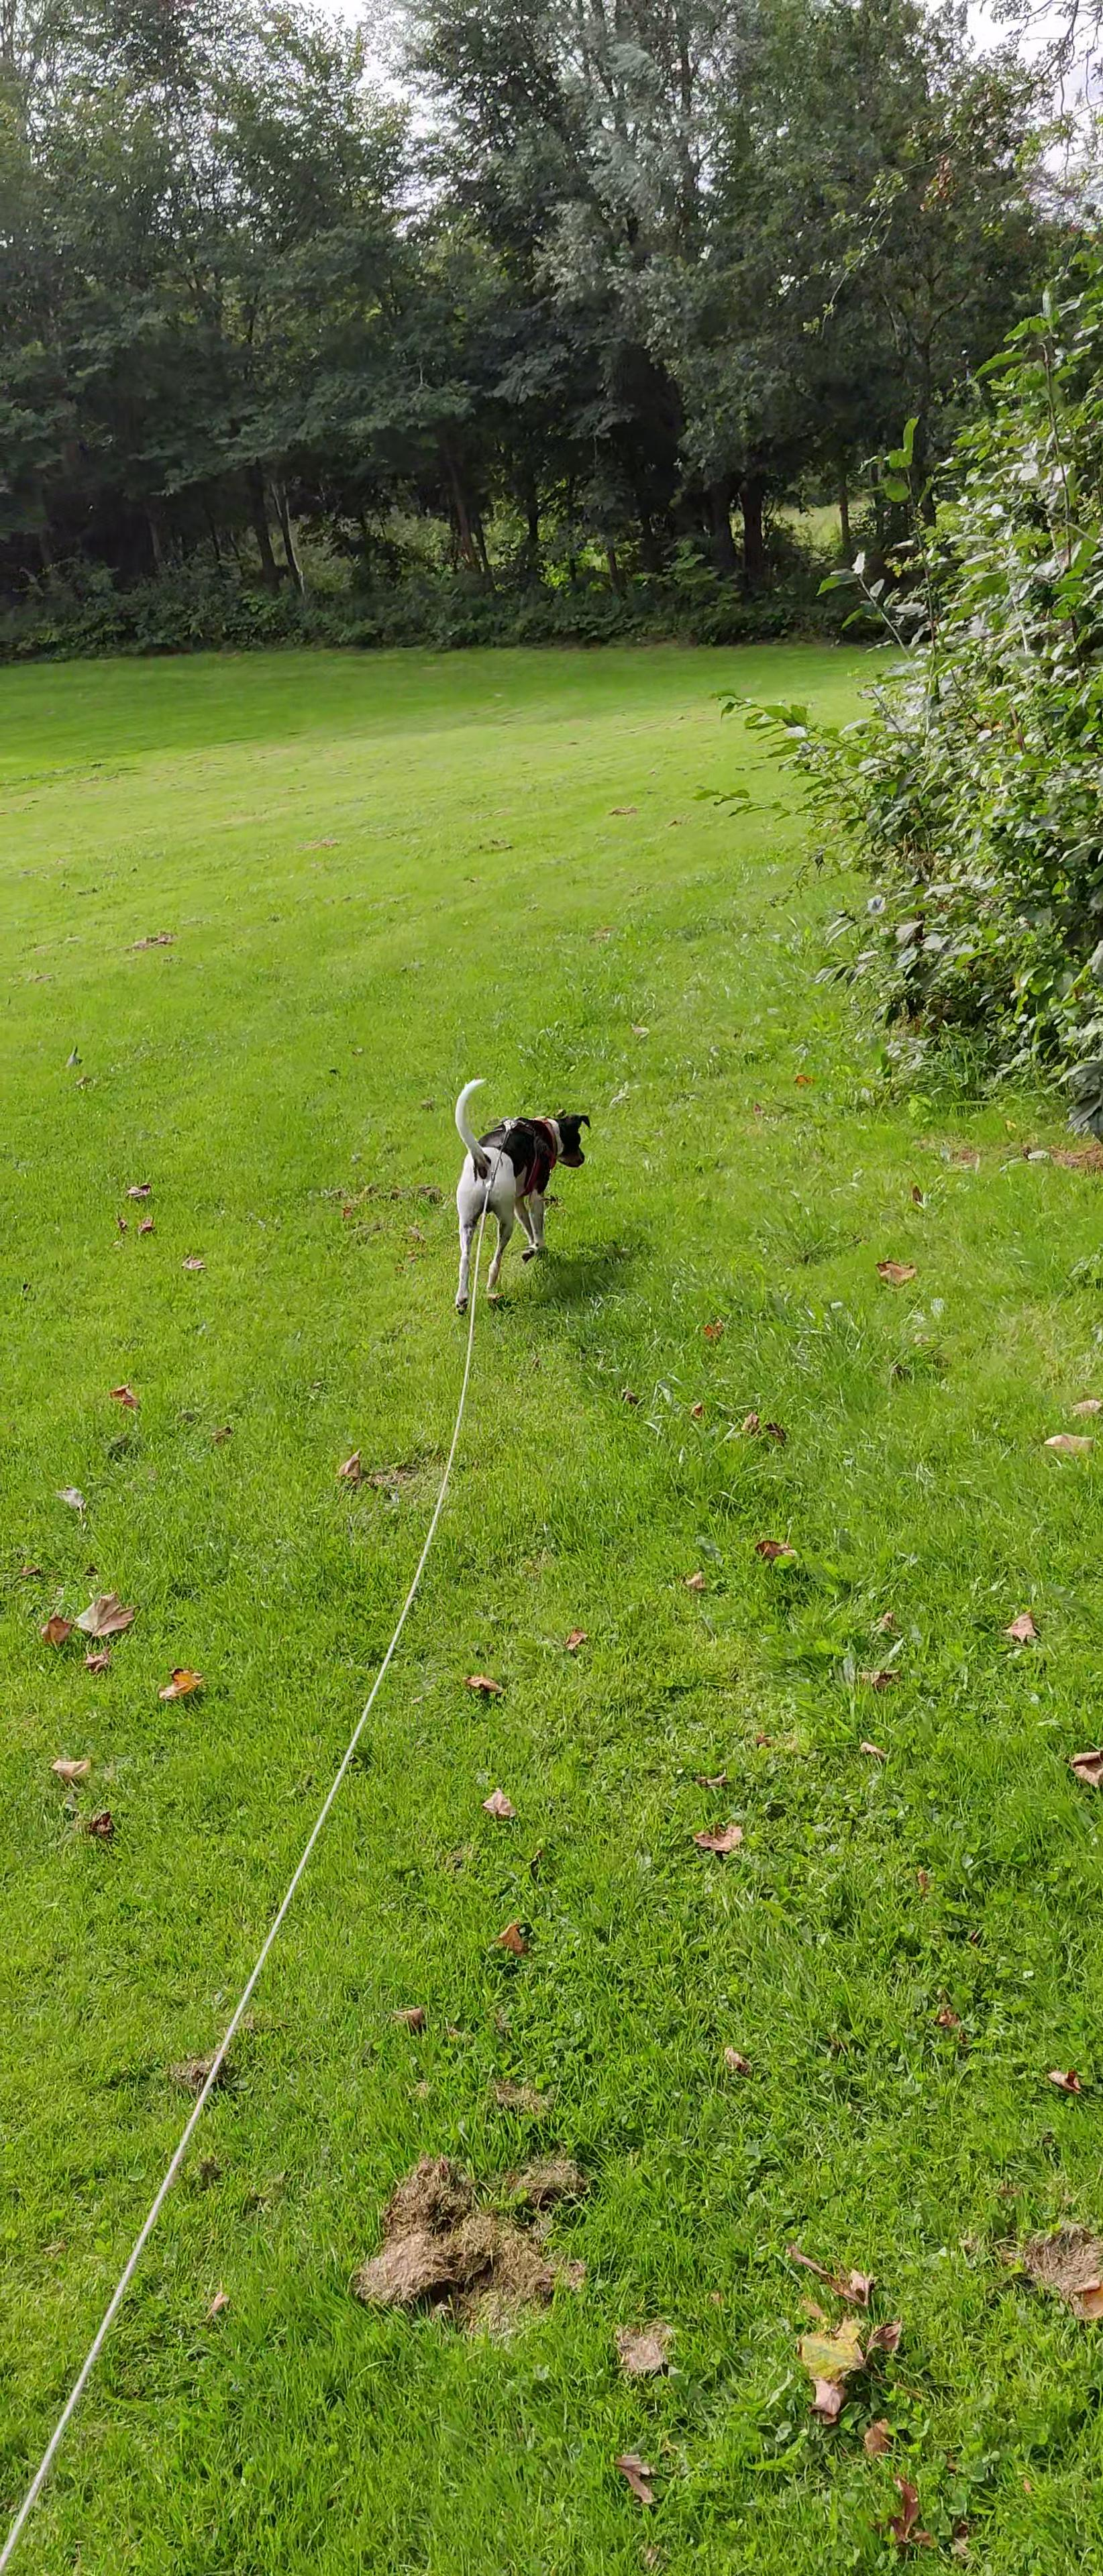Dog: (445, 1076, 592, 1316)
